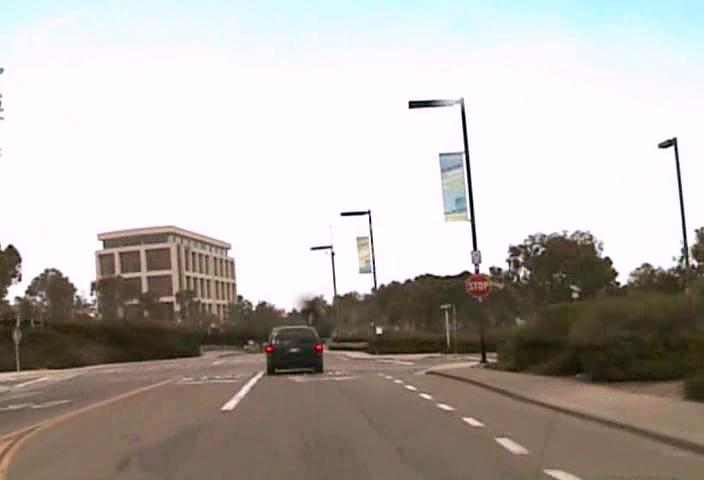stop: (464, 272, 491, 298)
